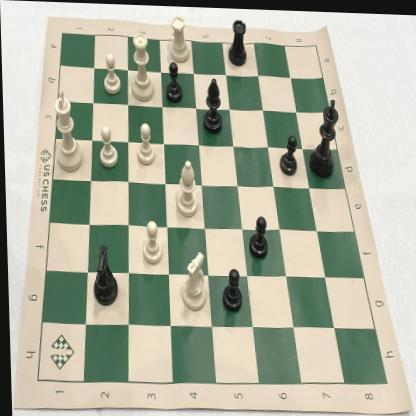black-bishop: (198, 72, 224, 134)
black-king: (305, 94, 342, 181)
black-pawn: (218, 263, 243, 314), (245, 209, 269, 261), (162, 58, 185, 104), (278, 131, 299, 179)
black-rook: (224, 13, 250, 69)
white-bishop: (172, 153, 199, 220)
white-king: (49, 85, 83, 174)
white-knight: (89, 240, 120, 309), (177, 246, 208, 313)
white-pawn: (138, 213, 164, 267), (94, 124, 121, 171), (133, 119, 158, 169), (100, 50, 123, 97)
white-queen: (129, 28, 155, 105)
white-rook: (166, 10, 191, 65)
